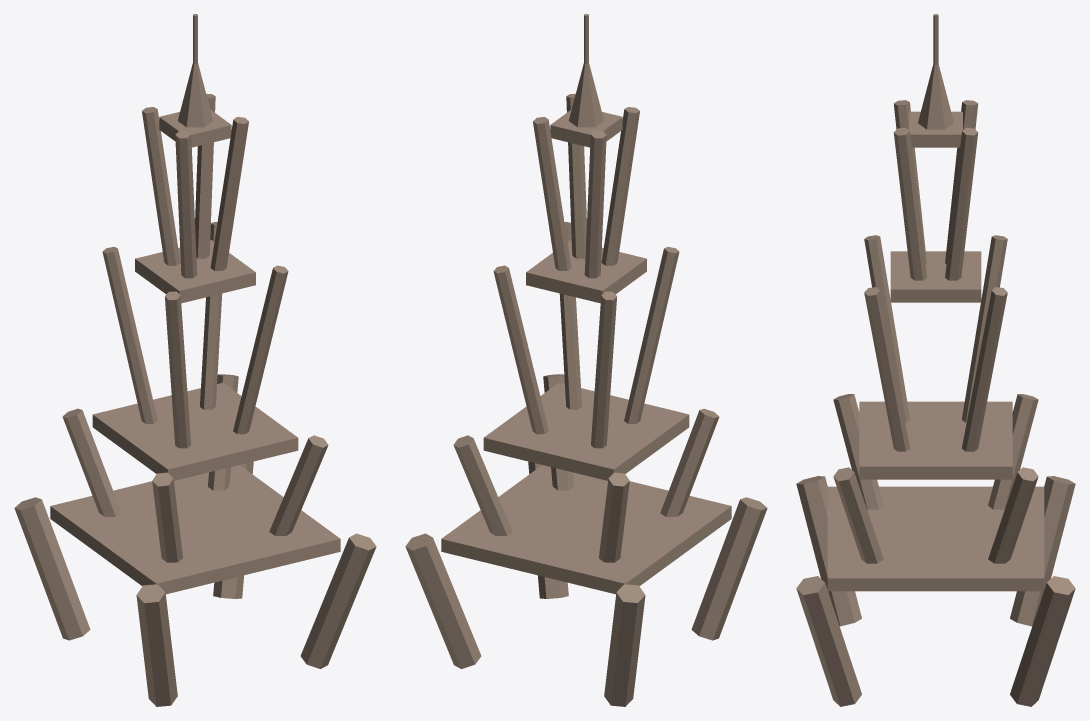
File: eiffel.glb
The picture shows the model from 3 angles, left to right: view 1: azimuth 30°, elevation 25°; view 2: azimuth 150°, elevation 25°; view 3: azimuth 270°, elevation 25°; orthographic projection.
Visible parts, largest first — view 1: ef_d0, ef_d1, ef_l0-11, ef_l01-1, ef_d2, ef_l0-1-1, ef_l2-11, ef_l21-1, ef_l3-11, ef_l2-1-1, ef_l31-1, ef_l1-11 (+9 smaller); view 2: ef_d0, ef_d1, ef_l0-1-1, ef_l011, ef_d2, ef_l0-11, ef_l2-1-1, ef_l211, ef_l3-1-1, ef_l2-11, ef_l311, ef_l1-1-1 (+9 smaller); view 3: ef_d0, ef_d1, ef_l011, ef_l01-1, ef_d2, ef_l0-1-1, ef_l0-11, ef_l21-1, ef_l211, ef_l311, ef_l31-1, ef_l11-1 (+9 smaller).
Boxes of the visible parts, left/top/right/bottom form: ef_d0: left=50, top=465, right=340, bottom=594; ef_d1: left=92, top=382, right=298, bottom=480; ef_l0-11: left=14, top=497, right=90, bottom=640; ef_l01-1: left=300, top=533, right=376, bottom=668; ef_d2: left=135, top=240, right=255, bottom=303; ef_l0-1-1: left=136, top=584, right=177, bottom=706; ef_l2-11: left=102, top=247, right=157, bottom=423; ef_l21-1: left=233, top=265, right=288, bottom=434; ef_l3-11: left=142, top=107, right=180, bottom=265; ef_l2-1-1: left=165, top=291, right=190, bottom=448; ef_l31-1: left=210, top=117, right=248, bottom=270; ef_l1-11: left=62, top=408, right=121, bottom=516; ef_d0: left=441, top=465, right=731, bottom=594; ef_d1: left=483, top=382, right=689, bottom=480; ef_l0-1-1: left=691, top=497, right=767, bottom=640; ef_l011: left=405, top=533, right=481, bottom=668; ef_d2: left=526, top=240, right=646, bottom=303; ef_l0-11: left=604, top=584, right=645, bottom=706; ef_l2-1-1: left=624, top=247, right=679, bottom=423; ef_l211: left=493, top=265, right=548, bottom=434; ef_l3-1-1: left=601, top=107, right=639, bottom=265; ef_l2-11: left=591, top=291, right=616, bottom=448; ef_l311: left=533, top=117, right=571, bottom=270; ef_l1-1-1: left=660, top=408, right=719, bottom=516; ef_d0: left=827, top=486, right=1044, bottom=591; ef_d1: left=859, top=401, right=1012, bottom=479; ef_l011: left=1010, top=576, right=1075, bottom=706; ef_l01-1: left=796, top=576, right=861, bottom=706; ef_d2: left=890, top=251, right=981, bottom=302; ef_l0-1-1: left=796, top=476, right=861, bottom=626; ef_l0-11: left=1010, top=476, right=1075, bottom=626; ef_l21-1: left=864, top=287, right=909, bottom=451; ef_l211: left=962, top=287, right=1007, bottom=451; ef_l311: left=945, top=127, right=978, bottom=280; ef_l31-1: left=893, top=127, right=926, bottom=280; ef_l11-1: left=833, top=467, right=883, bottom=563.
Size of the model in its own units: 30.47 by 79.3 by 30.93.
